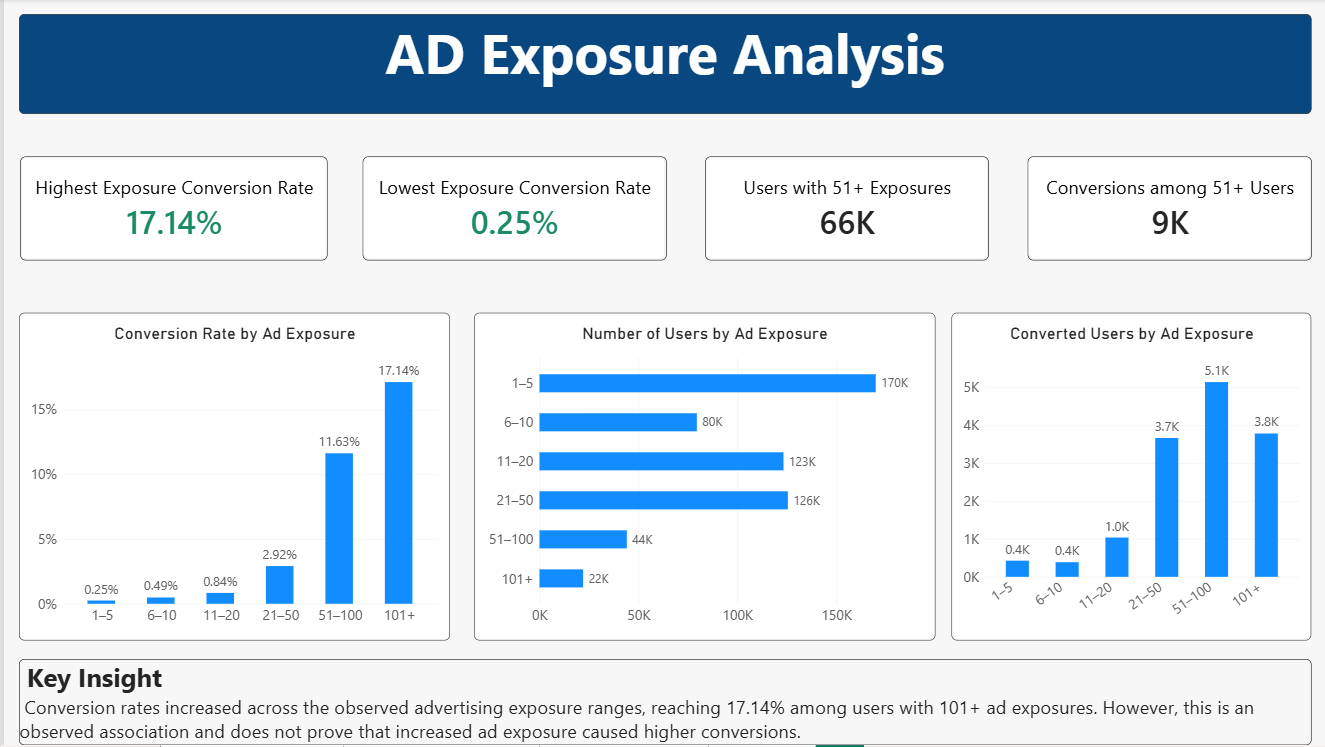

The page's visual inventory and layout, read from the dashboard file:
{"tool":"powerbi","page":{"name":"Ad Exposure Analysis","canvas":[1920,1080],"ordinal":1},"visuals":[{"type":"clusteredColumnChart","title":"Conversion Rate by Ad Exposure","fields":{"Category":["tblAB.Exposure Band"],"Y":["tblAB.Conversion Rate"]},"box":[21.7,454.2,624.3,474.1],"z":0},{"type":"clusteredBarChart","title":"Number of Users by Ad Exposure","fields":{"Category":["tblAB.Exposure Band"],"Y":["tblAB.Total Users"]},"box":[680.4,454.2,667.8,474.1],"z":1},{"type":"columnChart","title":"Converted Users by Ad Exposure","fields":{"Category":["tblAB.Exposure Band"],"Y":["tblAB.Converted Users"]},"box":[1371.7,454.2,521.2,474.1],"z":2},{"type":"textbox","box":[21.7,21.7,1871.2,144.8],"z":3},{"type":"cardVisual","fields":{"Data":["tblAB.Conversion Rate"]},"box":[23.5,228,445.2,150.2],"z":4},{"type":"cardVisual","fields":{"Data":["tblAB.Conversion Rate"]},"box":[519.4,228,439.7,150.2],"z":5},{"type":"cardVisual","fields":{"Data":["tblAB.Users 51 Plus"]},"box":[1015.2,228,410.8,150.2],"z":6},{"type":"cardVisual","fields":{"Data":["tblAB.Conversions 51 Plus"]},"box":[1482,228,411,150],"z":7},{"type":"textbox","box":[21.7,955.5,1871.2,124.9],"z":8}]}

Visuals, with their boxes in screenshot pixels (x1, y1, x2, y2), scaled from the page's 1920x1080 canvas onto the 1325x747 screenshot:
"Conversion Rate by Ad Exposure" clusteredColumnChart: (left=15, top=314, right=446, bottom=642)
"Number of Users by Ad Exposure" clusteredBarChart: (left=470, top=314, right=930, bottom=642)
"Converted Users by Ad Exposure" columnChart: (left=947, top=314, right=1306, bottom=642)
textbox: (left=15, top=15, right=1306, bottom=115)
cardVisual - tblAB.Conversion Rate: (left=16, top=158, right=323, bottom=262)
cardVisual - tblAB.Conversion Rate: (left=358, top=158, right=662, bottom=262)
cardVisual - tblAB.Users 51 Plus: (left=701, top=158, right=984, bottom=262)
cardVisual - tblAB.Conversions 51 Plus: (left=1023, top=158, right=1306, bottom=261)
textbox: (left=15, top=661, right=1306, bottom=746)
